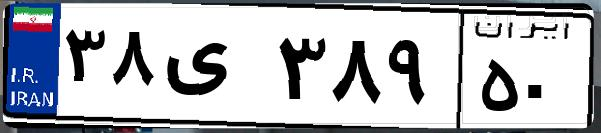0: (525, 38, 570, 115)
3: (270, 28, 330, 110), (57, 26, 110, 100)
5: (475, 38, 525, 113)
8: (330, 28, 385, 110), (110, 28, 158, 98)
9: (385, 28, 445, 110)
ی: (158, 20, 270, 120)
